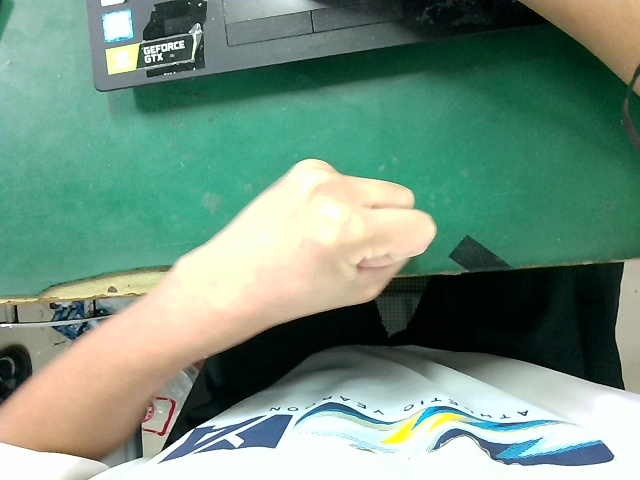stone: (185, 133, 444, 340)
